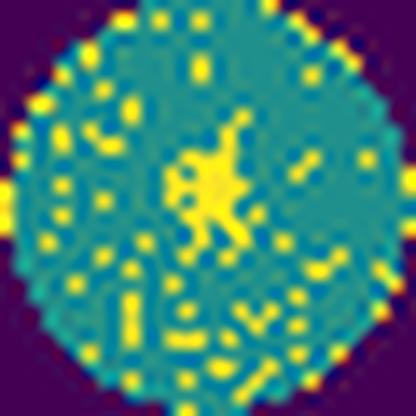Center: (165, 124, 251, 254)
